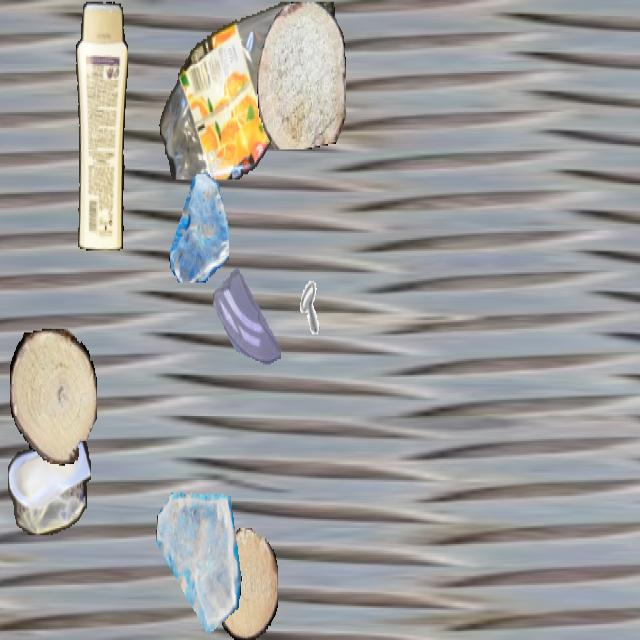glass: (155, 486, 241, 638), (213, 256, 281, 377), (168, 174, 228, 281)
metal: (275, 272, 321, 354)
plastic: (158, 2, 340, 180), (73, 2, 127, 250), (8, 427, 90, 533)
wood: (257, 2, 345, 148), (10, 329, 96, 464), (216, 528, 278, 638)
